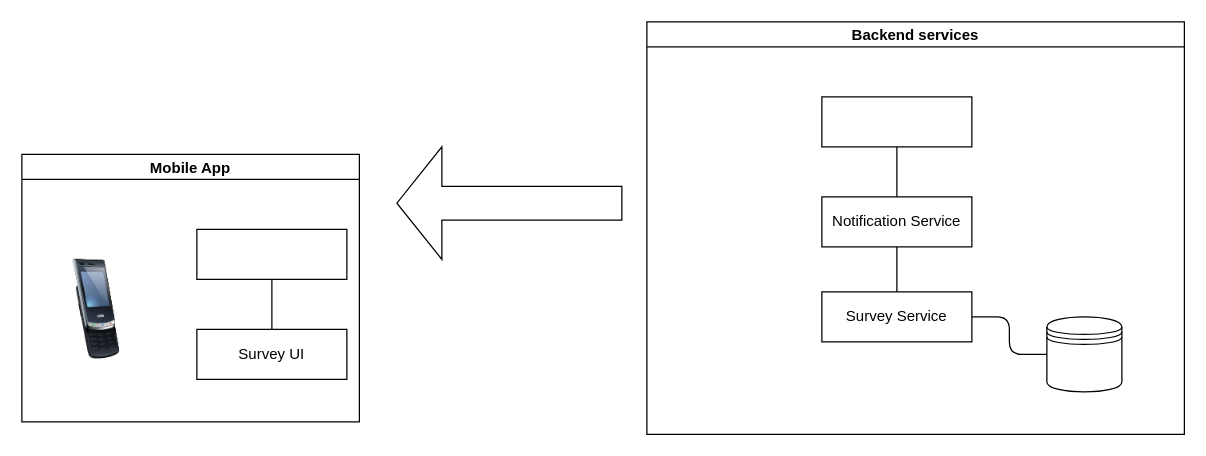
The diagram is 1206 pixels wide and 456 high, and some of its shapes have lost their labels. The centre of each missing label's shape, as x and y in pixels:
API Gateway: the point at 896,121
Push Notification Handler: the point at 271,253
